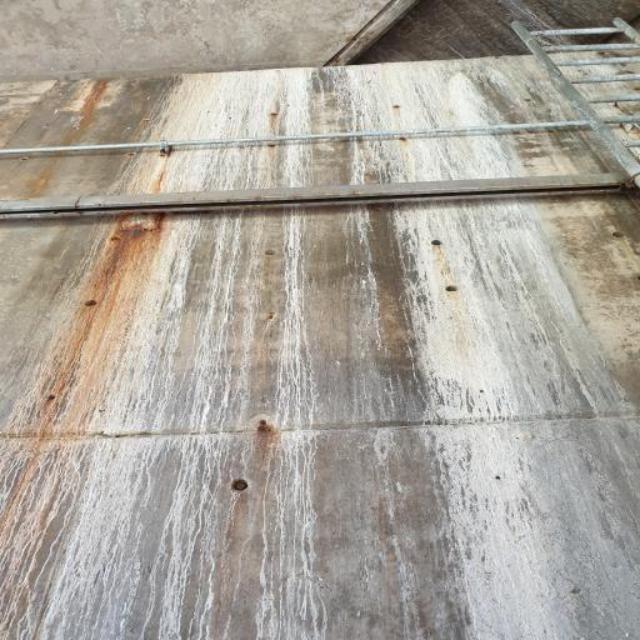D01: (394, 198, 639, 639)
